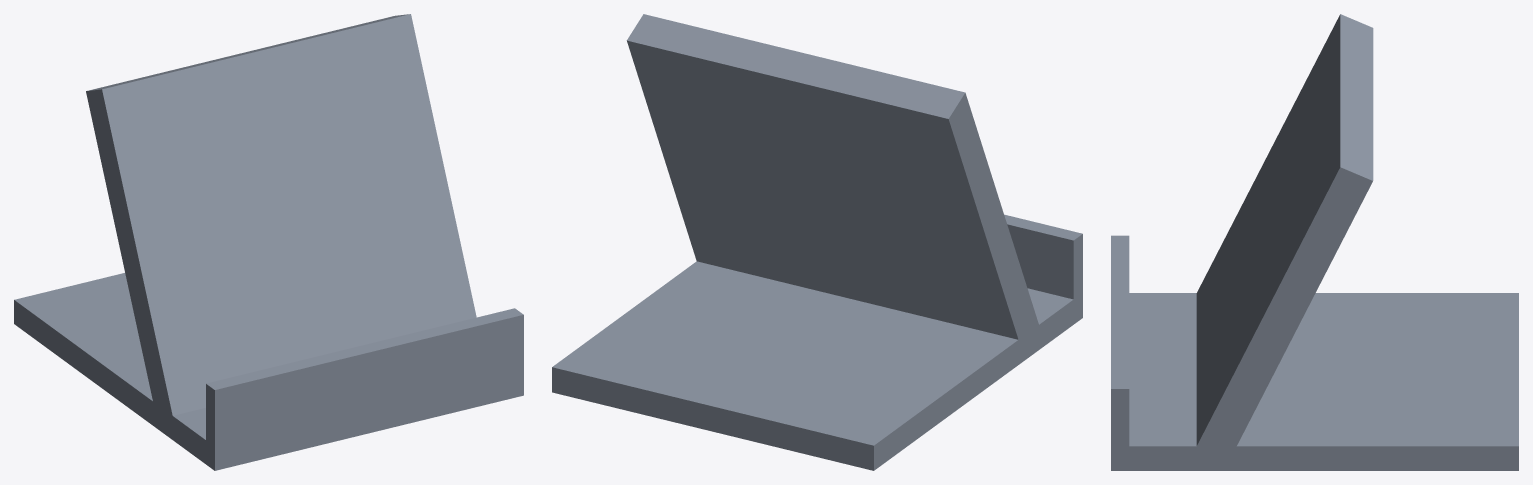
Rendered from step-1.glb.
3 views of the same model, side by side, from view 1: azimuth 30°, elevation 25°; view 2: azimuth 150°, elevation 25°; view 3: azimuth 270°, elevation 25° (orthographic). The views are drawn at different scales.
Visible parts, largest first — view 1: face_d12ad28d6cee6353e29b, face_6de031bfbf79d85c185e, face_a4e2f3e39ab7b990631e, face_12949c6af0727adacbb5, face_87c5253e2ffc259c436e, face_677e854c2360f45b8074, face_d561a53902f5a4e3bec9; view 2: face_6119663d325885a662f1, face_12949c6af0727adacbb5, face_a4e2f3e39ab7b990631e, face_677e854c2360f45b8074, face_50748392fe64b3cc2e5b, face_b1cb52ce1c7fa38dc903, face_d561a53902f5a4e3bec9, face_87c5253e2ffc259c436e; view 3: face_12949c6af0727adacbb5, face_d12ad28d6cee6353e29b, face_9036581d5accb01e5dbb, face_d561a53902f5a4e3bec9, face_677e854c2360f45b8074, face_87c5253e2ffc259c436e.
Part boxes in pixels (<box>): face_d12ad28d6cee6353e29b: <box>102,14,476,415</box>; face_6de031bfbf79d85c185e: <box>215,315,523,470</box>; face_a4e2f3e39ab7b990631e: <box>14,89,214,470</box>; face_12949c6af0727adacbb5: <box>14,273,152,400</box>; face_87c5253e2ffc259c436e: <box>206,308,523,389</box>; face_677e854c2360f45b8074: <box>87,14,408,90</box>; face_d561a53902f5a4e3bec9: <box>173,408,205,439</box>; face_6119663d325885a662f1: <box>627,40,1018,339</box>; face_12949c6af0727adacbb5: <box>552,261,1018,445</box>; face_a4e2f3e39ab7b990631e: <box>874,93,1082,470</box>; face_677e854c2360f45b8074: <box>627,14,965,118</box>; face_50748392fe64b3cc2e5b: <box>552,367,873,470</box>; face_b1cb52ce1c7fa38dc903: <box>1007,224,1073,299</box>; face_d561a53902f5a4e3bec9: <box>1027,288,1073,324</box>; face_87c5253e2ffc259c436e: <box>1004,214,1082,240</box>; face_12949c6af0727adacbb5: <box>1237,293,1518,446</box>; face_d12ad28d6cee6353e29b: <box>1196,14,1340,445</box>; face_9036581d5accb01e5dbb: <box>1111,167,1518,470</box>; face_d561a53902f5a4e3bec9: <box>1129,293,1196,446</box>; face_677e854c2360f45b8074: <box>1340,14,1373,180</box>; face_87c5253e2ffc259c436e: <box>1111,235,1129,388</box>.
Bounding box in the file's own units: 0.08 × 0.074 × 0.09.
